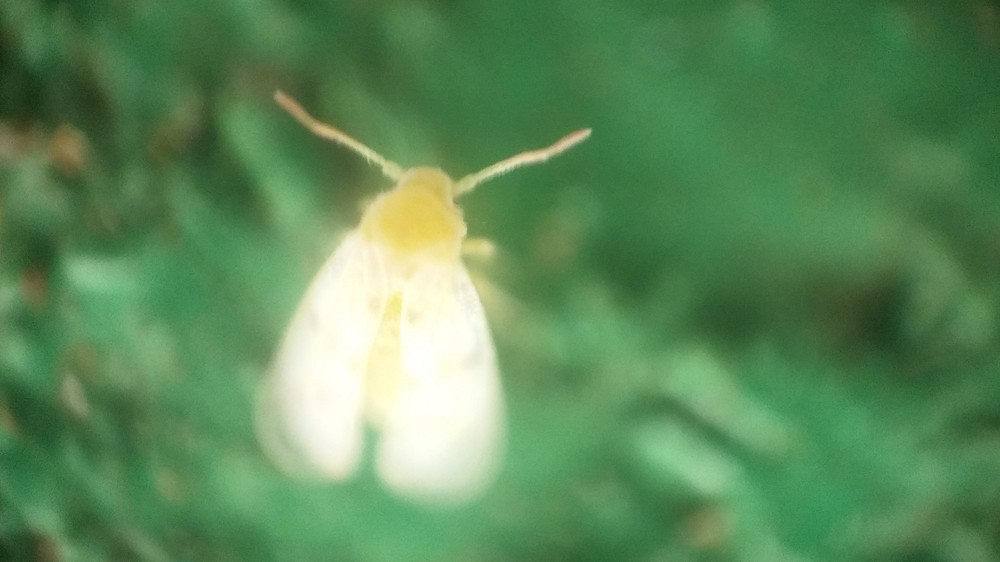Mosca Blanca: (226, 74, 636, 524)
